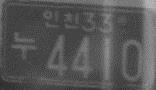0: (121, 38, 143, 82)
1: (102, 36, 113, 81)
3: (98, 10, 113, 35), (81, 11, 97, 33)
4: (45, 35, 68, 78), (72, 36, 94, 79)
누: (12, 30, 37, 62)
인천_O: (42, 8, 81, 32)
